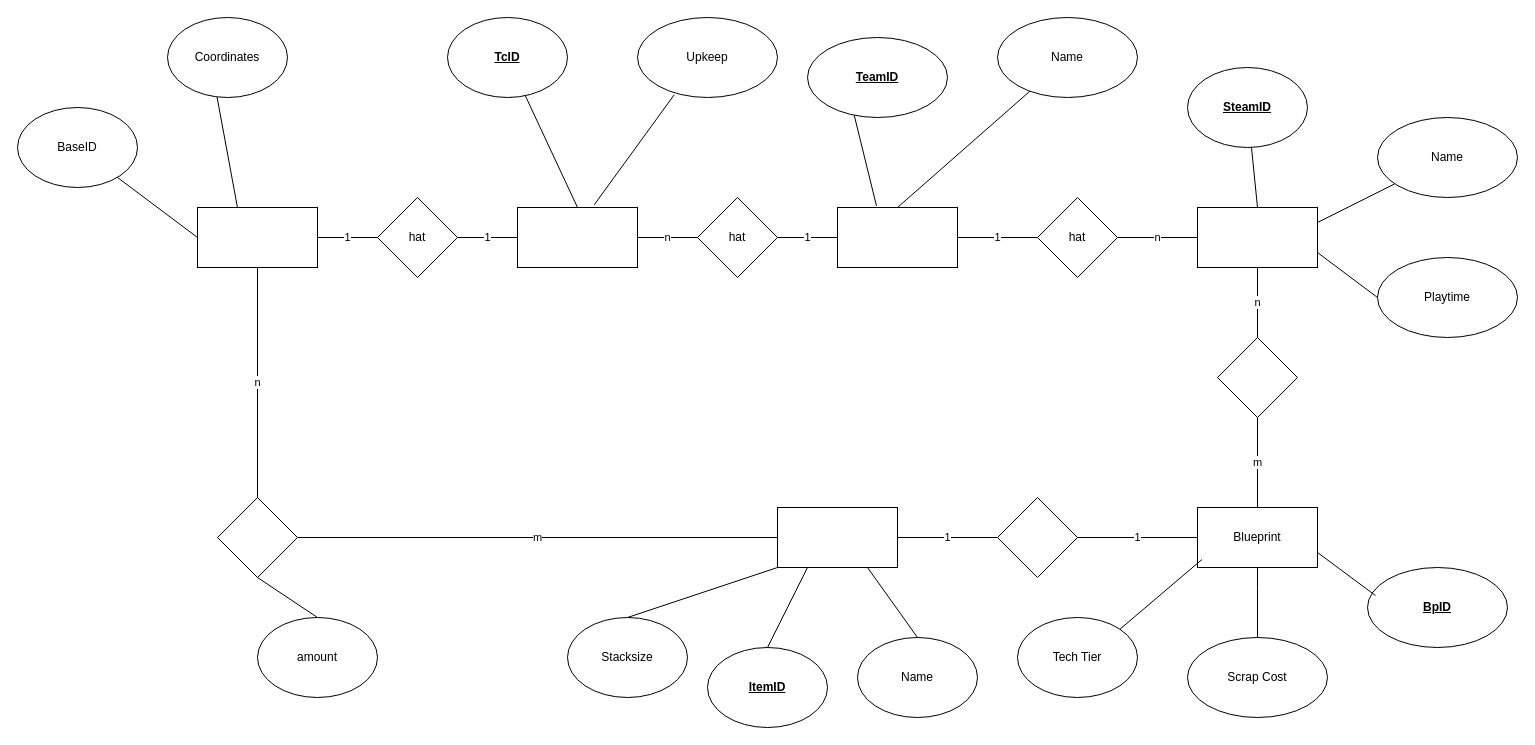
This 1535x745 diagram has some shape labels left out. The centre of each missing label's shape, as x and y in pixels:
"Base" goes at (x=257, y=237).
"connected" goes at (x=1037, y=537).
"Item" goes at (x=837, y=537).
"lernt" goes at (x=1257, y=377).
"Player" goes at (x=1257, y=237).
"stores" goes at (x=257, y=537).
"Team" goes at (x=897, y=237).
"Tool Cupboard" goes at (x=577, y=237).
